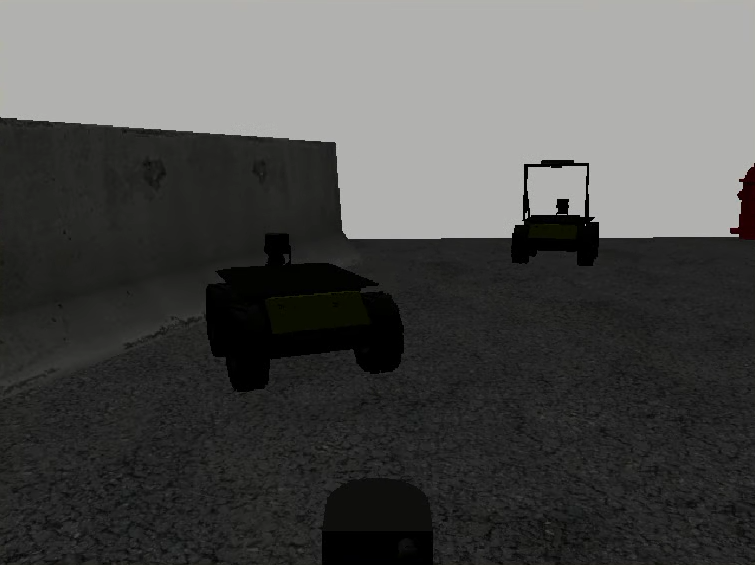husky: (205, 262, 406, 393), (511, 215, 600, 266)
